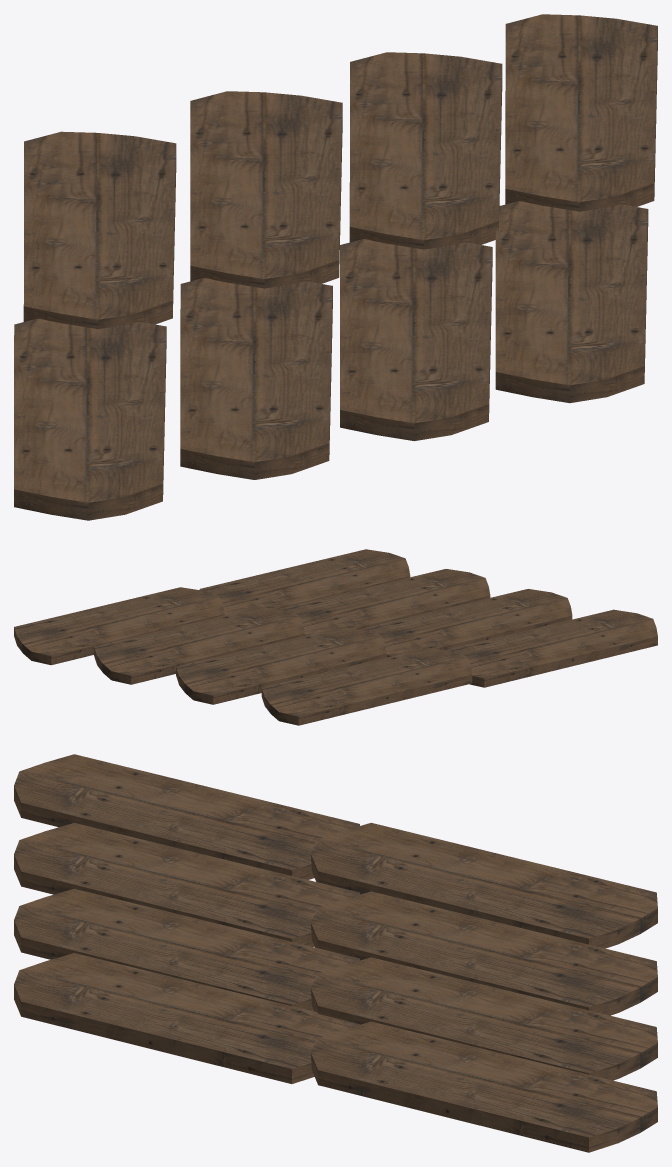
The model's file is BreakableFloor.fbx.
3 views of the same model, one above another, from view 1: azimuth 30°, elevation 25°; view 2: azimuth 150°, elevation 25°; view 3: azimuth 270°, elevation 25° (orthographic). The views are drawn at different scales.
Visible parts, largest first — view 1: WoodenPlank__14_; view 2: WoodenPlank__14_; view 3: WoodenPlank__14_.
Boxes of the visible parts, x1,y1,x2,y2 form: WoodenPlank__14_: (14, 14, 657, 520); WoodenPlank__14_: (14, 549, 657, 725); WoodenPlank__14_: (14, 754, 657, 1152).
Size of the model in its own units: 380 by 10.44 by 264.
1 material, 1 textured.
